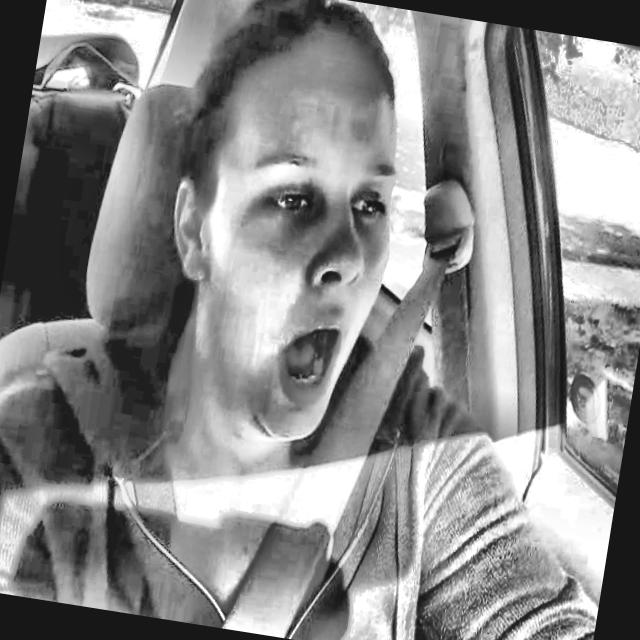open_eyes: (244, 175, 319, 222), (344, 178, 396, 227)
open_mouth: (252, 313, 354, 424)
